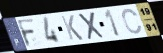1: (105, 9, 121, 39)
4: (43, 15, 60, 46)
C: (121, 8, 144, 36)
F: (16, 18, 38, 49)
K: (60, 14, 85, 42)
X: (76, 11, 107, 41)
